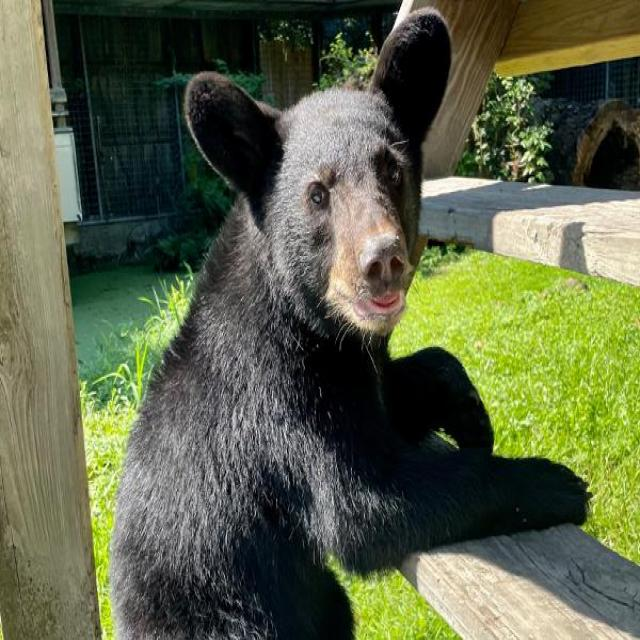Bear: (109, 10, 589, 640)
